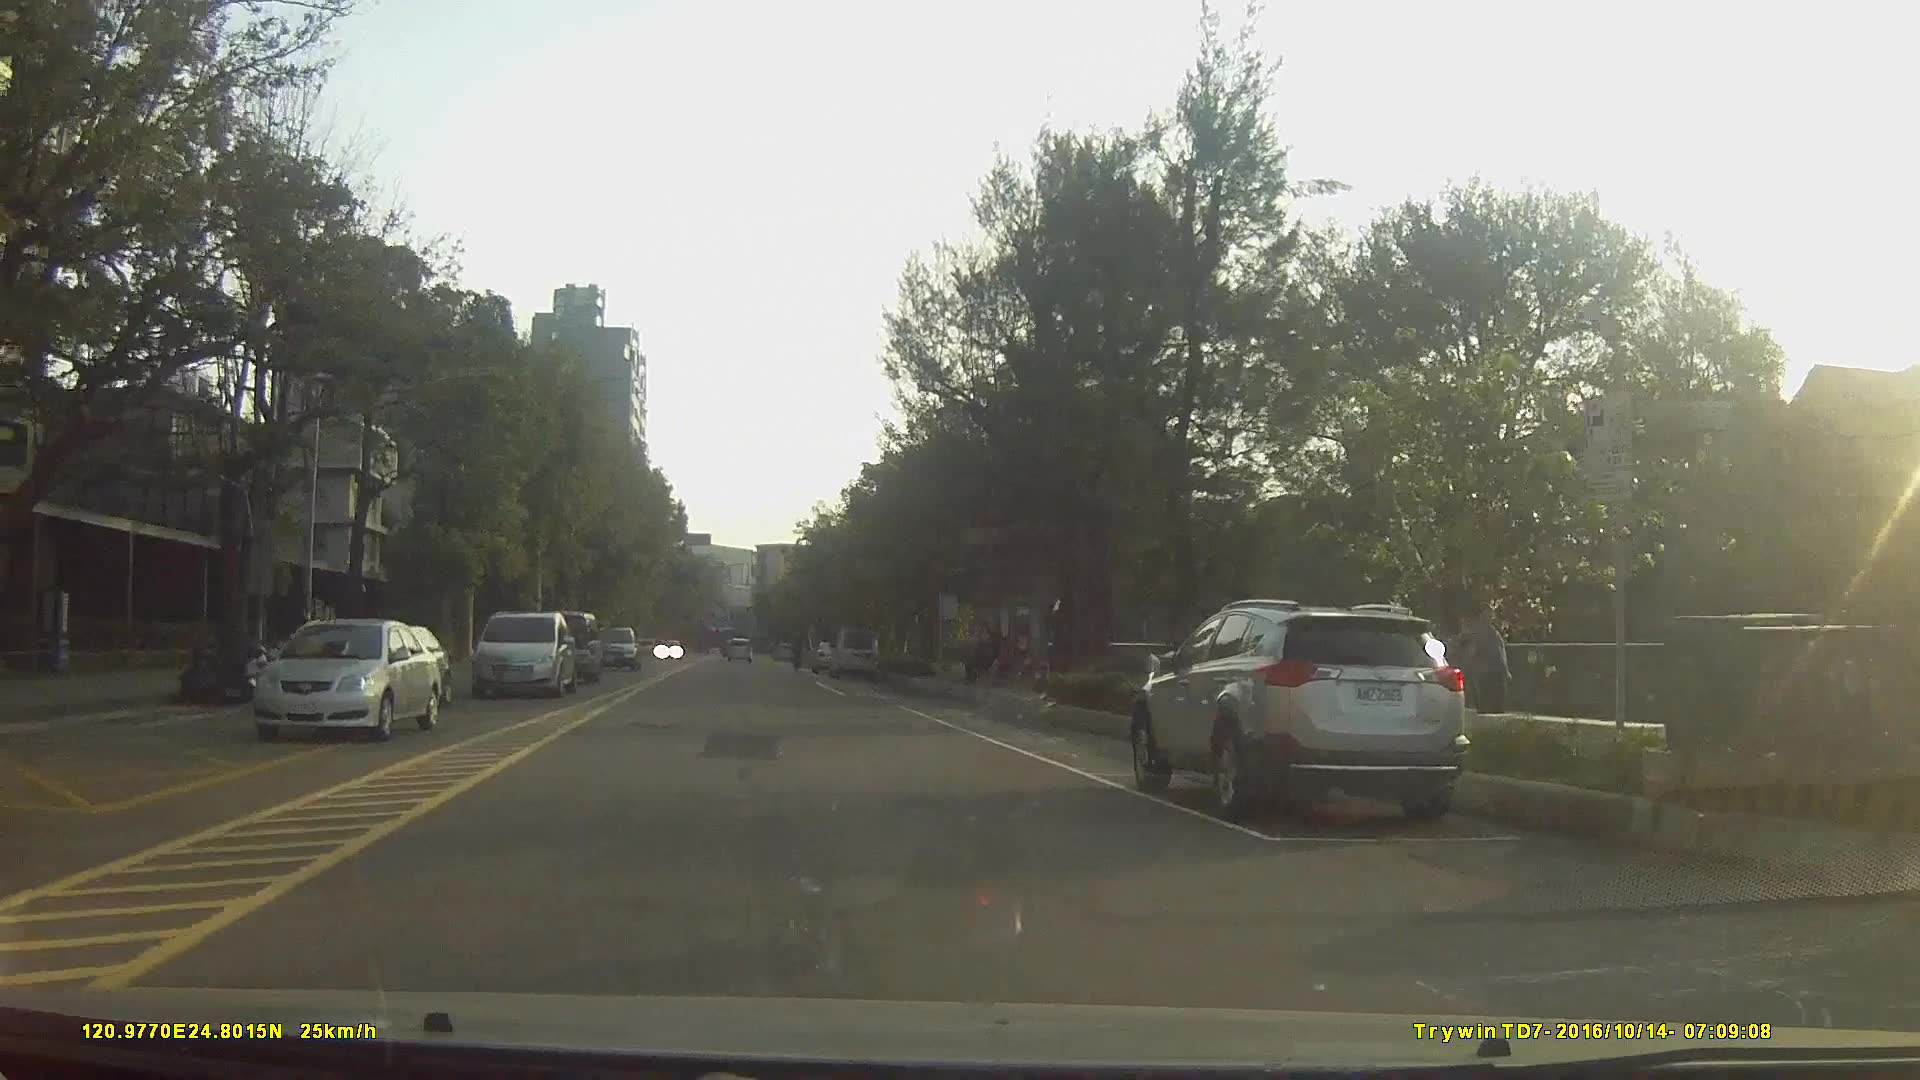vehicle: (1135, 596, 1470, 822), (252, 618, 440, 741), (471, 611, 575, 700), (828, 625, 880, 680), (585, 624, 640, 669), (808, 640, 844, 673), (725, 636, 753, 663)
